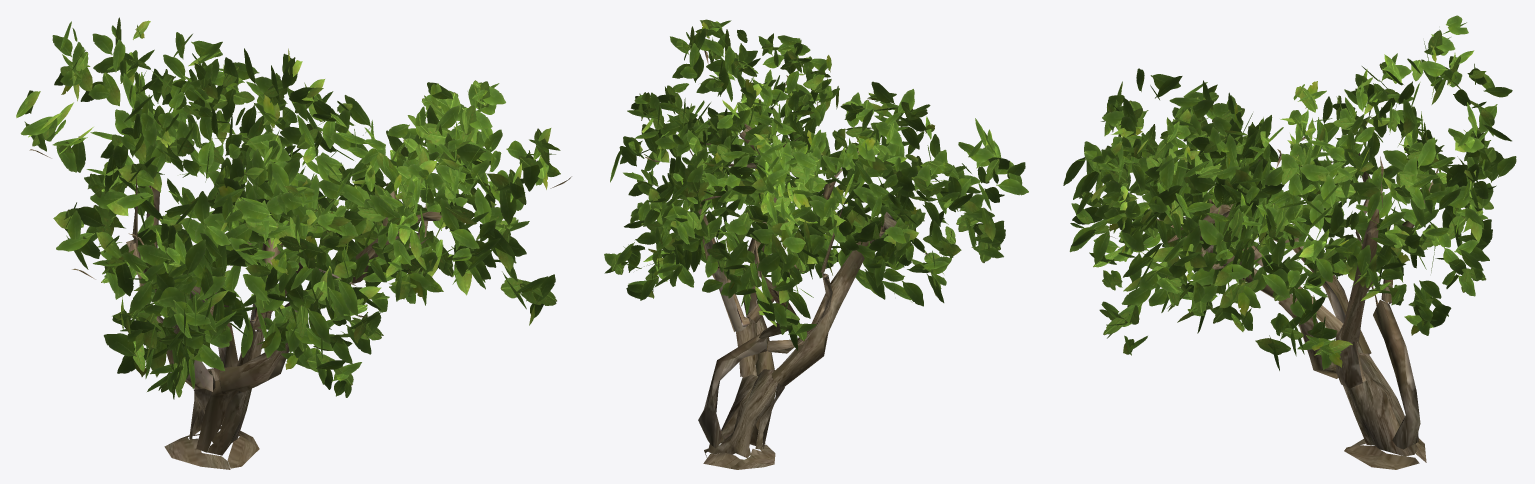
The model's file is sycamore_a.glb.
The picture shows the model from 3 angles, left to right: view 1: azimuth 30°, elevation 25°; view 2: azimuth 150°, elevation 25°; view 3: azimuth 270°, elevation 25°; orthographic projection. The views are drawn at different scales.
Parts seen in each view (by area): view 1: sycamore_a; view 2: sycamore_a; view 3: sycamore_a.
Part boxes in pixels (left/top/right/bottom): sycamore_a: left=16, top=17, right=571, bottom=469; sycamore_a: left=604, top=19, right=1028, bottom=469; sycamore_a: left=1063, top=15, right=1516, bottom=469.
Size of what is drawn, in the model's own units: 7.01 by 7.23 by 7.6.
1 material, 1 textured.
